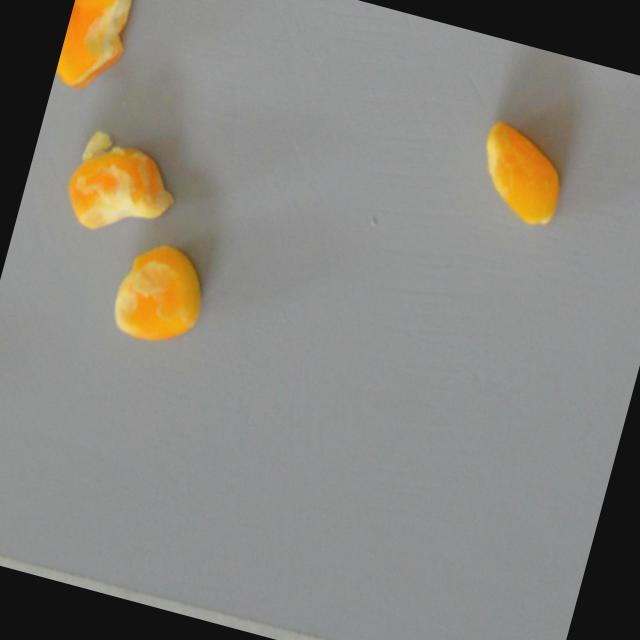dañado: (52, 0, 143, 102)
pelicula: (46, 118, 187, 246), (104, 232, 214, 351), (468, 113, 575, 231)
